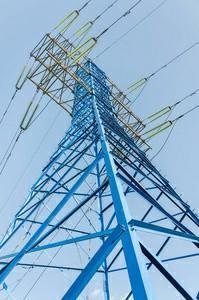power_tower: (2, 7, 199, 300)
